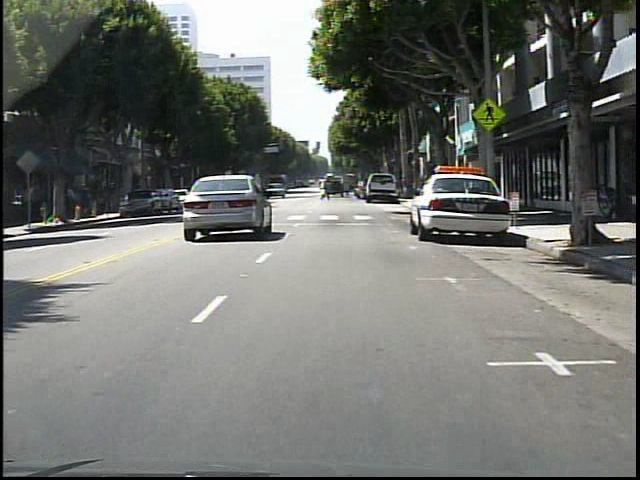person: (25, 181, 36, 221), (81, 182, 92, 218), (69, 186, 80, 218), (323, 178, 331, 201)
